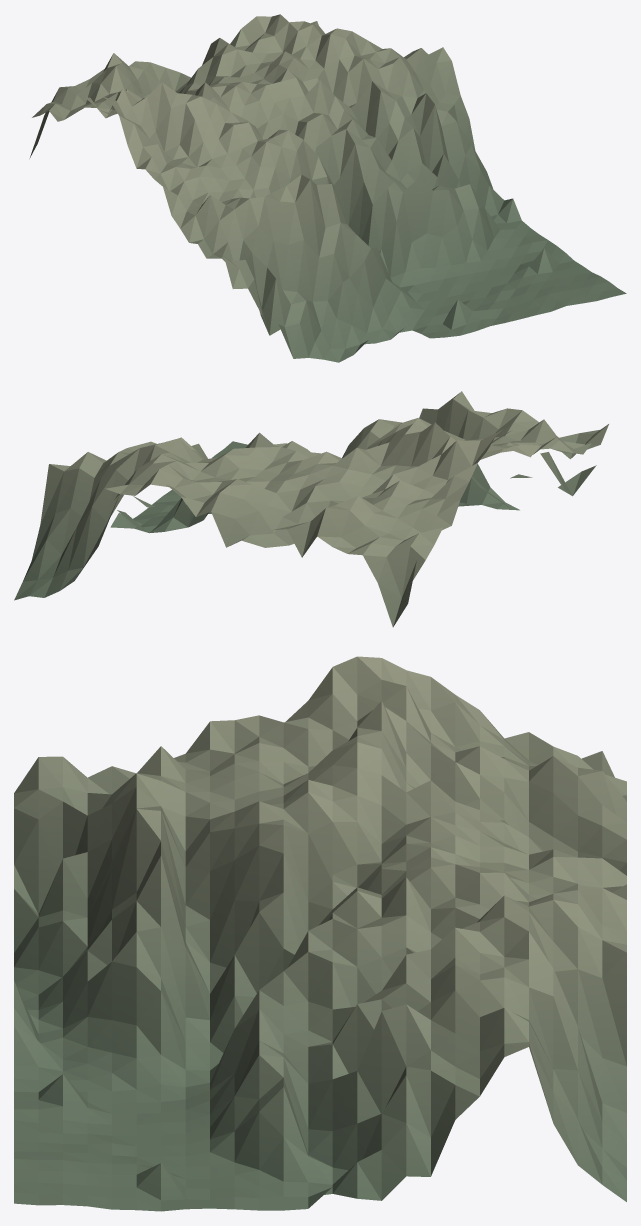
The model's file is tile_3_2.glb.
The picture shows the model from 3 angles, top to bottom: view 1: azimuth 30°, elevation 25°; view 2: azimuth 150°, elevation 25°; view 3: azimuth 270°, elevation 25°; orthographic projection. The views are drawn at different scales.
Parts seen in each view (by area): view 1: geometry_0; view 2: geometry_0; view 3: geometry_0.
Boxes of the visible parts, x1,y1,x2,y2 form: geometry_0: [29, 14, 626, 362]; geometry_0: [14, 391, 608, 627]; geometry_0: [14, 656, 626, 1211].
Size of the model in its own units: 127 by 62.99 by 123.
